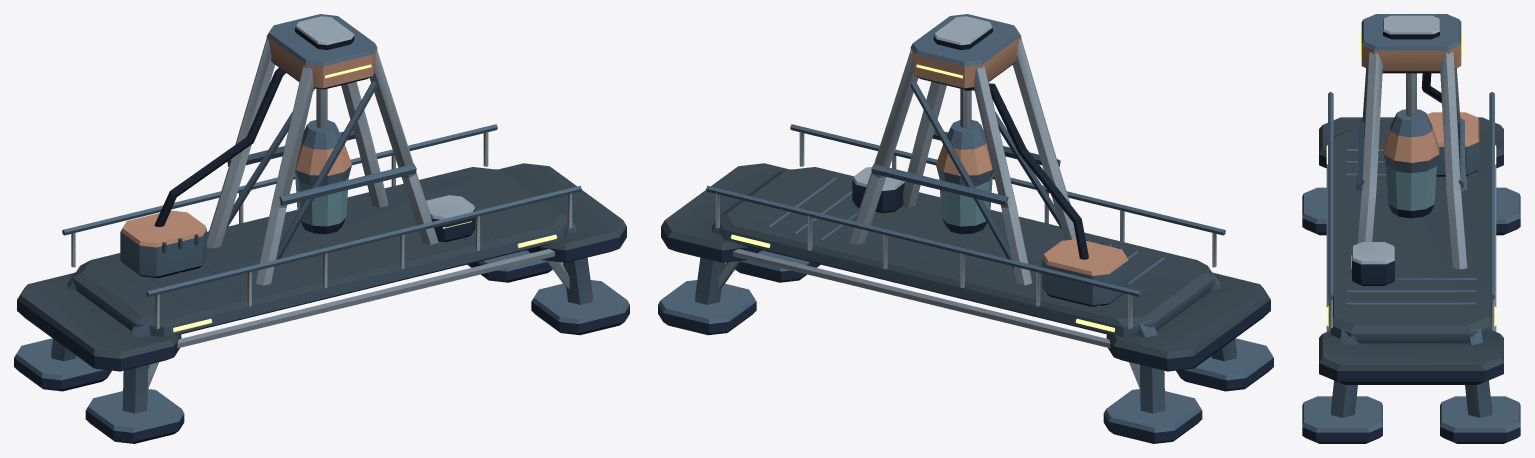
The model's file is frost-core-bridge.glb.
The picture shows the model from 3 angles, left to right: view 1: azimuth 30°, elevation 25°; view 2: azimuth 150°, elevation 25°; view 3: azimuth 270°, elevation 25°; orthographic projection. The views are drawn at different scales.
Visible parts, largest first — view 1: frost-core-bridge; view 2: frost-core-bridge; view 3: frost-core-bridge.
Part boxes in pixels (x1,y1,x2,y2): frost-core-bridge: (14,14,629,443); frost-core-bridge: (658,14,1273,443); frost-core-bridge: (1302,14,1520,443).
Bounding box in the file's own units: 9.94 × 5.61 × 3.68.
